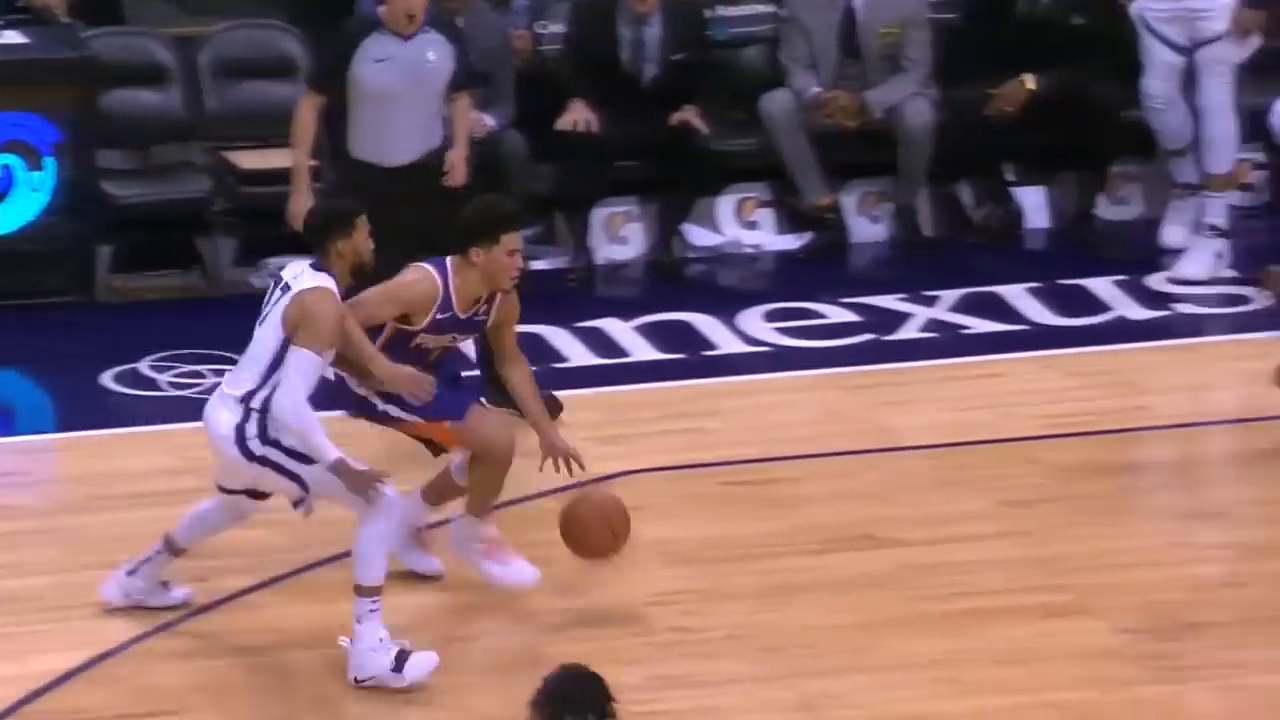ball: (558, 479, 634, 558)
